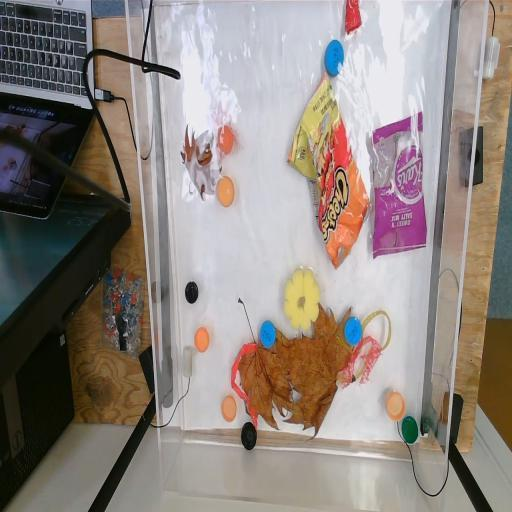Bottle Cap: (324, 40, 345, 78), (386, 390, 406, 422), (216, 175, 235, 208), (344, 316, 363, 347), (216, 124, 234, 156), (240, 420, 258, 451), (260, 320, 276, 349), (402, 415, 418, 444), (194, 326, 210, 354), (221, 395, 237, 422), (184, 280, 199, 304)
Cone Cap: (345, 0, 362, 36)
Leaf: (284, 301, 356, 446), (236, 296, 304, 433), (180, 122, 222, 203)
Netting: (341, 335, 384, 391), (210, 102, 244, 158)
Plastic Bag: (286, 70, 371, 271), (367, 108, 428, 260)
Plastic Strand: (336, 310, 392, 384), (231, 342, 258, 430)
Sponge: (284, 268, 320, 330)
